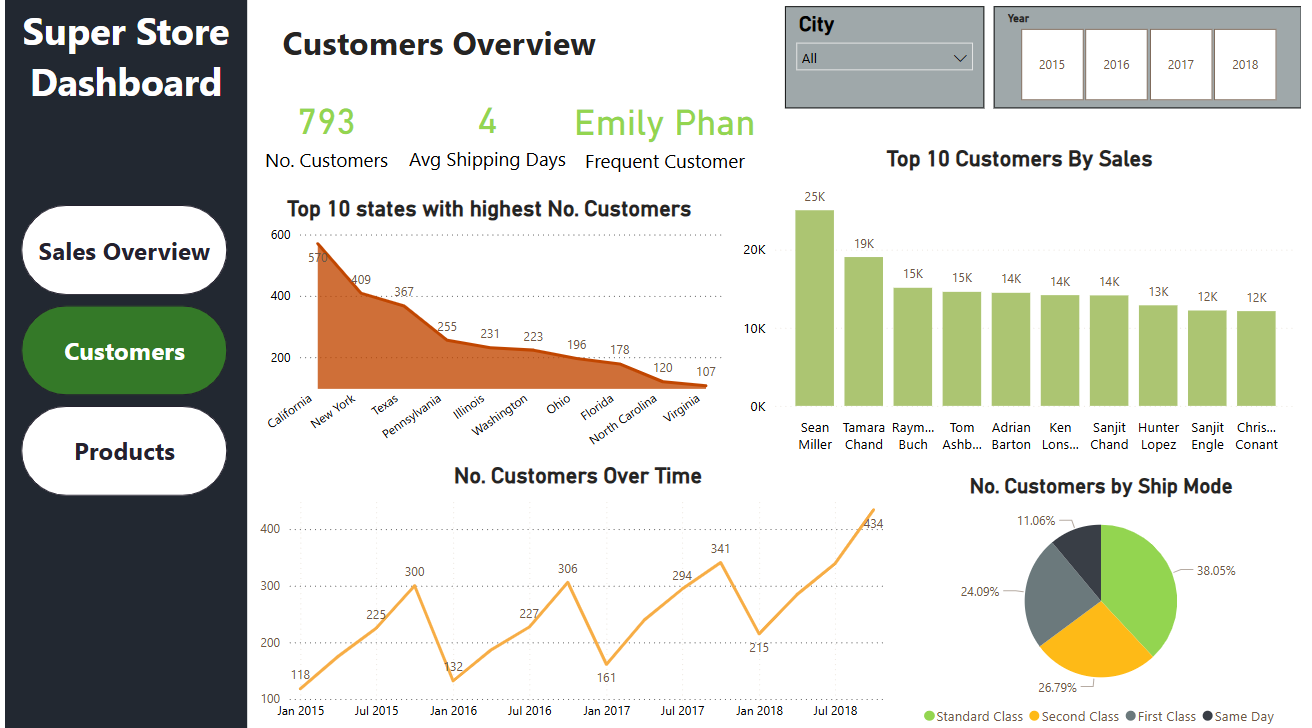

The page's visual inventory and layout, read from the dashboard file:
{"tool":"powerbi","page":{"name":"Customers","canvas":[1280,720],"ordinal":1},"visuals":[{"type":"card","fields":{"Values":["Superstore Sales Dataset.Customer ID"]},"box":[246.5,76.6,141.8,104.8],"z":0},{"type":"slicer","fields":{"Values":["Superstore Sales Dataset.Order Date.Variation.Date Hierarchy.Year"]},"box":[976,6.4,304,100.9],"z":1000},{"type":"slicer","fields":{"Values":["Superstore Sales Dataset.City"]},"box":[770,6.2,196.5,100.8],"z":2000},{"type":"textbox","box":[269.4,15.3,343,59.7],"z":3000},{"type":"card","fields":{"Values":["Superstore Sales Dataset.Ship Time (days)"]},"box":[388.3,76.6,175,108.6],"z":4000},{"type":"columnChart","title":"Top 10 Customers By Sales","fields":{"Category":["Superstore Sales Dataset.Customer Name"],"Y":["Superstore Sales Dataset.Total Sales"]},"box":[723,144.4,557,311.7],"z":5000},{"type":"pieChart","title":"No. Customers by Ship Mode","fields":{"Category":["Superstore Sales Dataset.Ship Mode"],"Y":["Superstore Sales Dataset.Customer ID"]},"box":[880.2,467.5,399.8,252.9],"z":6000},{"type":"lineChart","title":"No. Customers Over Time","fields":{"Y":["Superstore Sales Dataset.Customer Count"],"Category":["Superstore Sales Dataset.Order Date.Variation.Date Hierarchy.Year","Superstore Sales Dataset.Order Date.Variation.Date Hierarchy.Quarter"]},"box":[247.2,456.8,633.2,263.8],"z":7000},{"type":"areaChart","title":"Top 10 states with highest No. Customers","fields":{"Y":["Superstore Sales Dataset.Customer Count"],"Category":["Superstore Sales Dataset.State"]},"box":[247.2,194.4,462.4,262.4],"z":8000},{"type":"textbox","box":[0,0,238.8,720.3],"z":10000},{"type":"pageNavigator","box":[16.2,202.8,204,289.8],"z":11000},{"type":"card","fields":{"Values":["Superstore Sales Dataset.MostFrequentCustomer"]},"box":[519.9,76.6,264.4,106],"z":12000}]}

Visuals, with their boxes in screenshot pixels (x1, y1, x2, y2), scaled from the page's 1280x720 canvas onto the 1312x728 screenshot:
card - Superstore Sales Dataset.Customer ID: [x1=253, y1=77, x2=398, y2=183]
slicer - Superstore Sales Dataset.Order Date.Variation.Date Hierarchy.Year: [x1=1000, y1=6, x2=1311, y2=108]
slicer - Superstore Sales Dataset.City: [x1=789, y1=6, x2=991, y2=108]
textbox: [x1=276, y1=15, x2=628, y2=76]
card - Superstore Sales Dataset.Ship Time (days): [x1=398, y1=77, x2=577, y2=187]
"Top 10 Customers By Sales" columnChart: [x1=741, y1=146, x2=1311, y2=461]
"No. Customers by Ship Mode" pieChart: [x1=902, y1=473, x2=1311, y2=727]
"No. Customers Over Time" lineChart: [x1=253, y1=462, x2=902, y2=727]
"Top 10 states with highest No. Customers" areaChart: [x1=253, y1=197, x2=727, y2=462]
textbox: [x1=0, y1=0, x2=245, y2=727]
pageNavigator: [x1=17, y1=205, x2=226, y2=498]
card - Superstore Sales Dataset.MostFrequentCustomer: [x1=533, y1=77, x2=804, y2=185]
